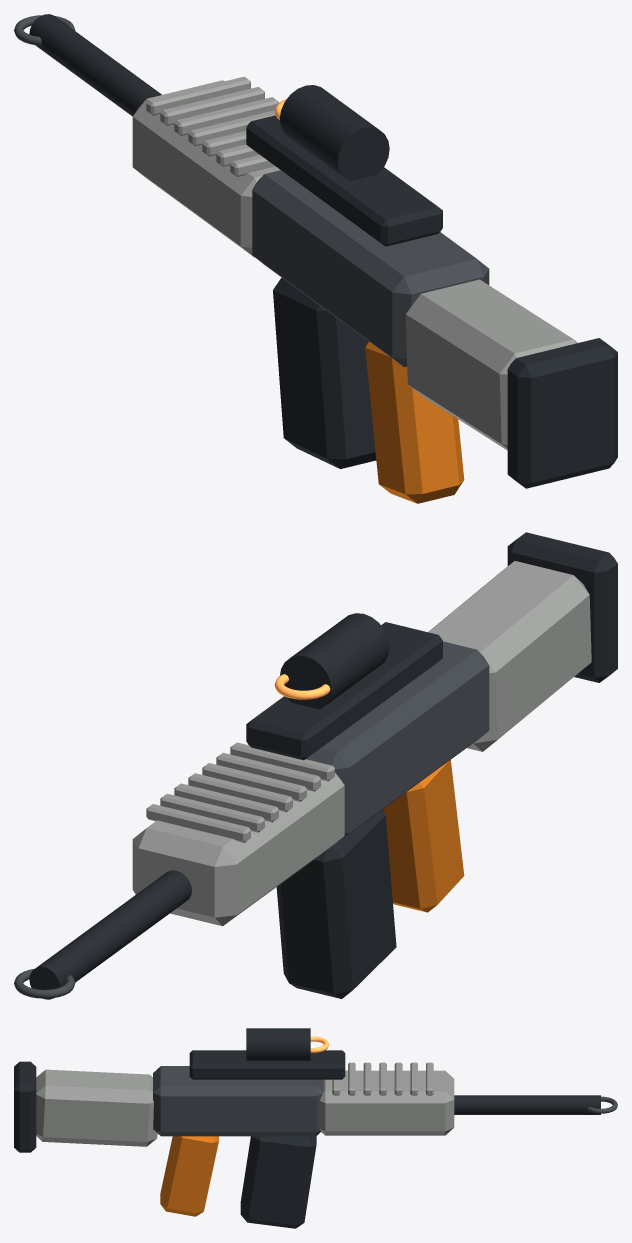
Rendered from arena-rifle.glb.
3 views of the same model, one above another, from view 1: azimuth 30°, elevation 25°; view 2: azimuth 150°, elevation 25°; view 3: azimuth 270°, elevation 25° (orthographic). The views are drawn at different scales.
Parts seen in each view (by area): view 1: RifleReceiver, RifleStock, RifleButtPad, RifleMagazine, RifleGrip, RifleCarryRail, RifleHandguard, RifleHandguardRibs, RifleOptic, RifleMuzzleBarrel; view 2: RifleStock, RifleReceiver, RifleMagazine, RifleHandguard, RifleHandguardRibs, RifleCarryRail, RifleGrip, RifleMuzzleBarrel, RifleButtPad, RifleOptic, RifleMuzzleCollar, RifleOpticLens; view 3: RifleReceiver, RifleStock, RifleHandguard, RifleMagazine, RifleCarryRail, RifleGrip, RifleMuzzleBarrel, RifleOptic, RifleButtPad, RifleHandguardRibs.
Part boxes in pixels (<box>): RifleReceiver: <box>252,170,489,367</box>; RifleStock: <box>405,279,577,450</box>; RifleButtPad: <box>507,338,617,488</box>; RifleMagazine: <box>273,277,376,468</box>; RifleGrip: <box>365,341,464,503</box>; RifleCarryRail: <box>246,115,442,246</box>; RifleHandguard: <box>132,80,280,257</box>; RifleHandguardRibs: <box>146,76,278,176</box>; RifleOptic: <box>279,85,389,181</box>; RifleMuzzleBarrel: <box>29,14,161,116</box>; RifleStock: <box>428,561,591,751</box>; RifleReceiver: <box>306,641,489,842</box>; RifleMagazine: <box>276,809,396,998</box>; RifleHandguard: <box>132,773,344,926</box>; RifleHandguardRibs: <box>146,742,334,842</box>; RifleCarryRail: <box>246,622,442,760</box>; RifleGrip: <box>383,760,464,912</box>; RifleMuzzleBarrel: <box>29,870,191,999</box>; RifleButtPad: <box>507,532,617,682</box>; RifleOptic: <box>280,613,389,709</box>; RifleMuzzleCollar: <box>14,968,75,998</box>; RifleOpticLens: <box>274,674,330,699</box>; RifleReceiver: <box>153,1066,323,1136</box>; RifleStock: <box>36,1069,157,1146</box>; RifleHandguard: <box>319,1070,454,1135</box>; RifleMagazine: <box>240,1136,316,1228</box>; RifleCarryRail: <box>189,1050,345,1079</box>; RifleGrip: <box>160,1136,218,1216</box>; RifleMuzzleBarrel: <box>454,1095,600,1114</box>; RifleOptic: <box>246,1028,310,1060</box>; RifleButtPad: <box>14,1061,36,1152</box>; RifleHandguardRibs: <box>332,1062,433,1095</box>.
Bounding box in the file's own units: 0.3 × 0.9581 × 2.72.
